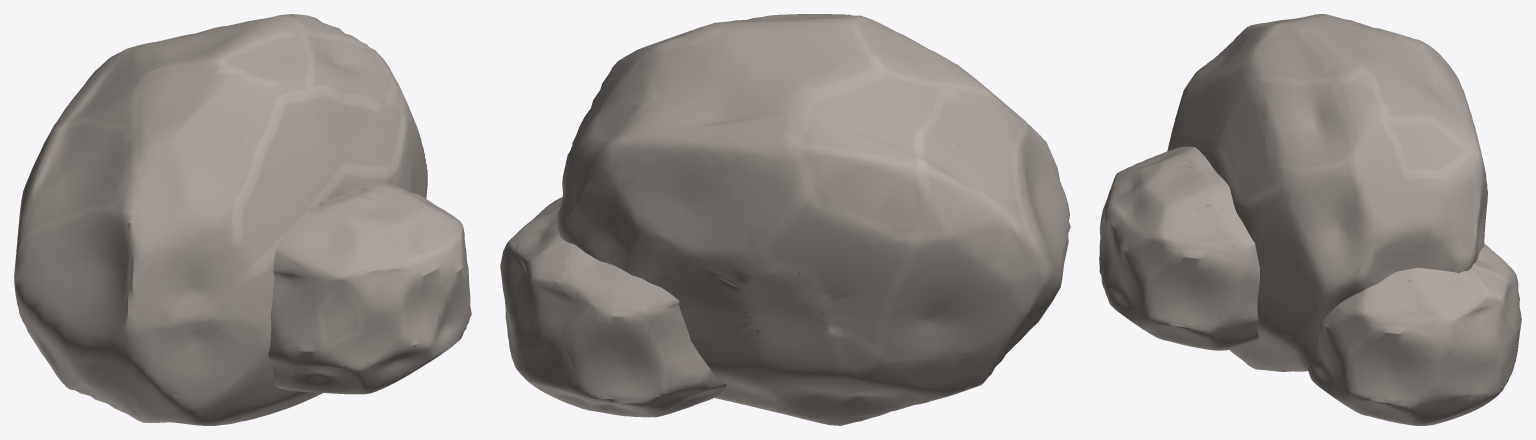
The model's file is rock2.fbx.
3 renders of one model, left to right at view 1: azimuth 30°, elevation 25°; view 2: azimuth 150°, elevation 25°; view 3: azimuth 270°, elevation 25°, orthographic. The views are drawn at different scales.
Visible parts, largest first — view 1: Sphere.006, Sphere.009; view 2: Sphere.006, Sphere.010; view 3: Sphere.006, Sphere.010, Sphere.009.
Boxes of the visible parts, x1=… form: Sphere.006: x1=14, y1=14, x2=427, y2=425; Sphere.009: x1=268, y1=180, x2=471, y2=394; Sphere.006: x1=557, y1=14, x2=1070, y2=425; Sphere.010: x1=500, y1=197, x2=726, y2=417; Sphere.006: x1=1167, y1=14, x2=1487, y2=371; Sphere.010: x1=1307, y1=244, x2=1521, y2=425; Sphere.009: x1=1099, y1=146, x2=1259, y2=350.
Size of the model in its own units: 0.4742 by 0.3676 by 0.42.
Materials: 1 (1 with a texture image).
